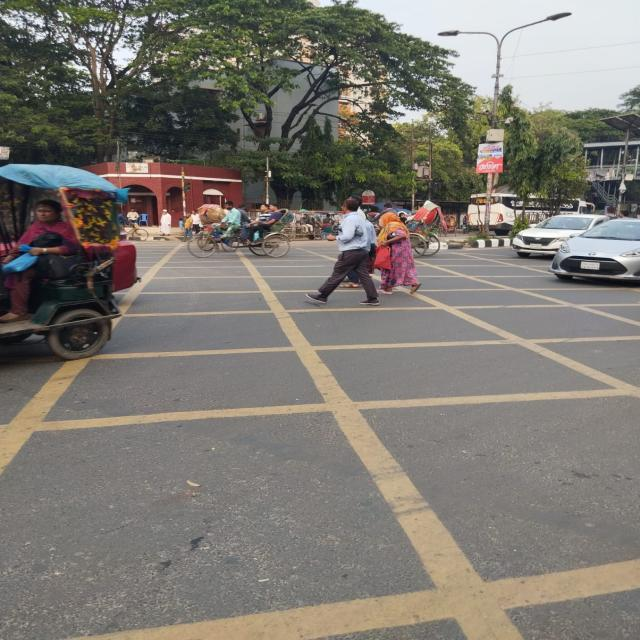person: (306, 198, 379, 306), (378, 213, 420, 294)
